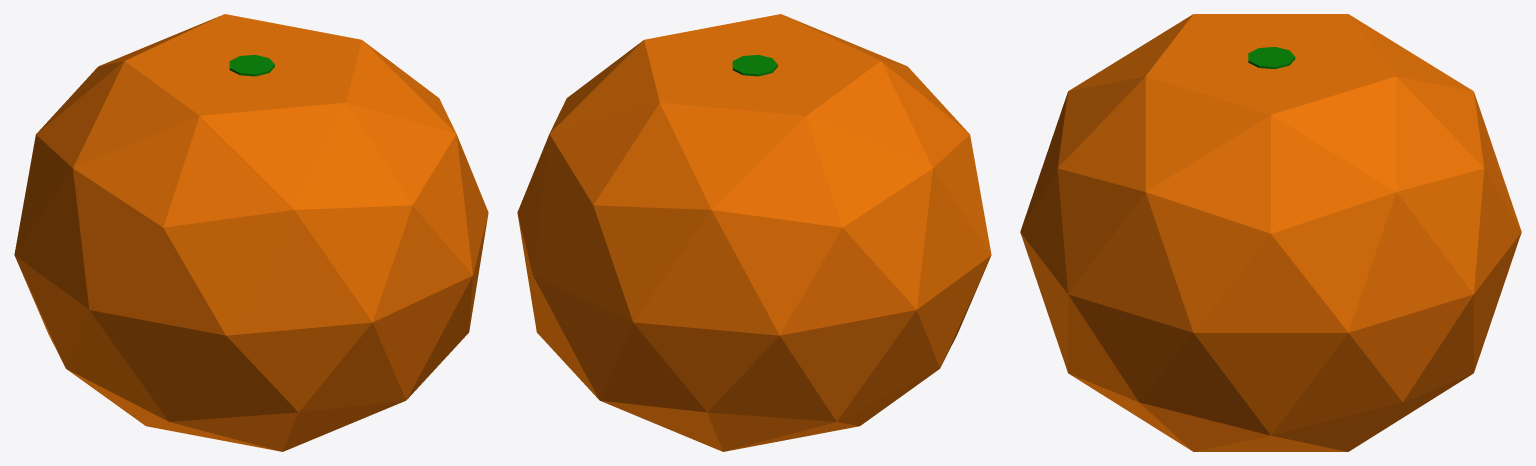
Rendered from Orange.fbx.
The picture shows the model from 3 angles, left to right: view 1: azimuth 30°, elevation 25°; view 2: azimuth 150°, elevation 25°; view 3: azimuth 270°, elevation 25°; orthographic projection. The views are drawn at different scales.
Parts seen in each view (by area): view 1: Icosphere, Cylinder; view 2: Icosphere, Cylinder; view 3: Icosphere, Cylinder.
Boxes of the visible parts, bbox=[...] form: Icosphere: bbox=[14, 14, 488, 451]; Cylinder: bbox=[229, 55, 274, 76]; Icosphere: bbox=[517, 14, 991, 451]; Cylinder: bbox=[732, 55, 777, 76]; Icosphere: bbox=[1020, 14, 1521, 451]; Cylinder: bbox=[1248, 47, 1295, 69].
Bounding box in the file's own units: 190 × 156 × 200.
